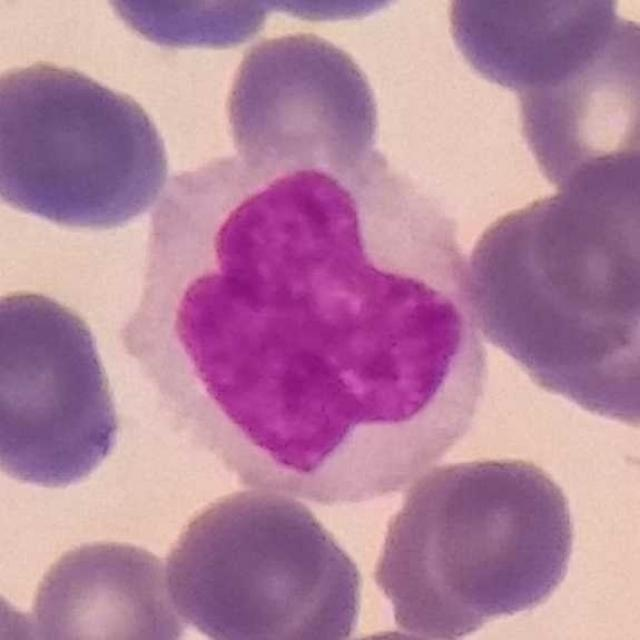Monocyte: (134, 139, 494, 500)
RBC: (457, 182, 640, 378), (158, 484, 373, 640), (0, 52, 178, 236), (367, 457, 523, 639), (421, 450, 584, 623), (0, 283, 130, 495), (218, 26, 386, 172), (511, 9, 640, 198), (525, 248, 640, 431), (532, 147, 640, 320), (24, 532, 192, 640), (437, 0, 624, 93), (92, 0, 302, 57), (277, 2, 393, 35), (0, 577, 48, 640)
